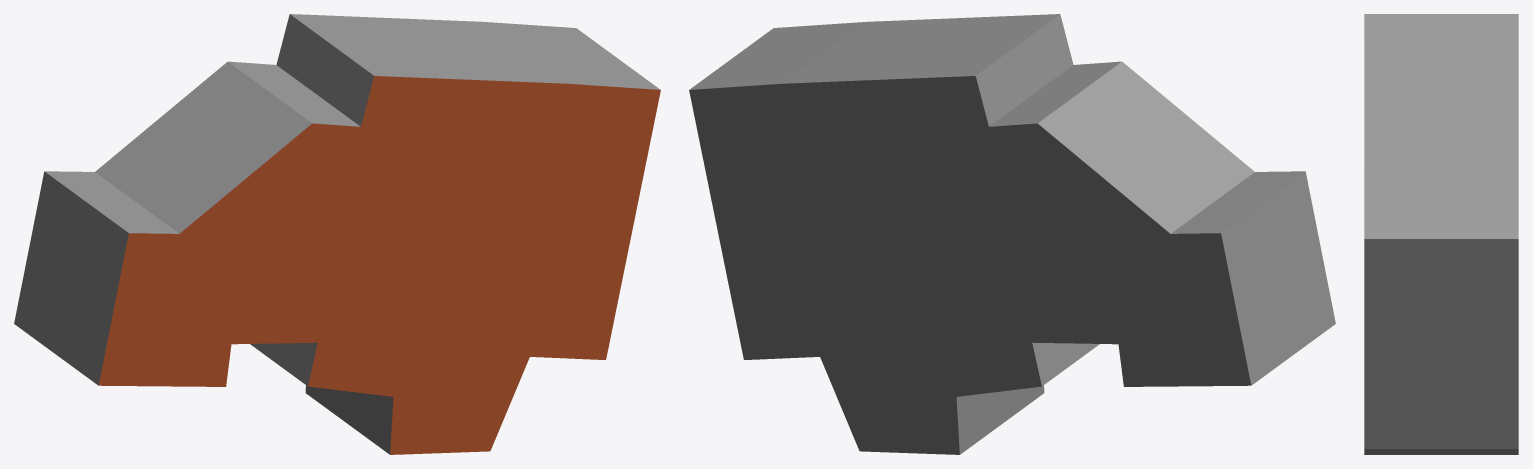
File: construction_4239_assumed_A_Casa_h6m.obj
The picture shows the model from 3 angles, left to right: view 1: azimuth 30°, elevation 25°; view 2: azimuth 150°, elevation 25°; view 3: azimuth 270°, elevation 25°; orthographic projection. The views are drawn at different scales.
Visible parts, largest first — view 1: construction_4239_assumed_A_Casa; view 2: construction_4239_assumed_A_Casa; view 3: construction_4239_assumed_A_Casa.
Part boxes in pixels (x1,y1,x2,y2): construction_4239_assumed_A_Casa: (14,14,660,454); construction_4239_assumed_A_Casa: (689,14,1335,454); construction_4239_assumed_A_Casa: (1364,14,1518,454).
Size of the model in its own units: 23.03 by 15.8 by 6.
